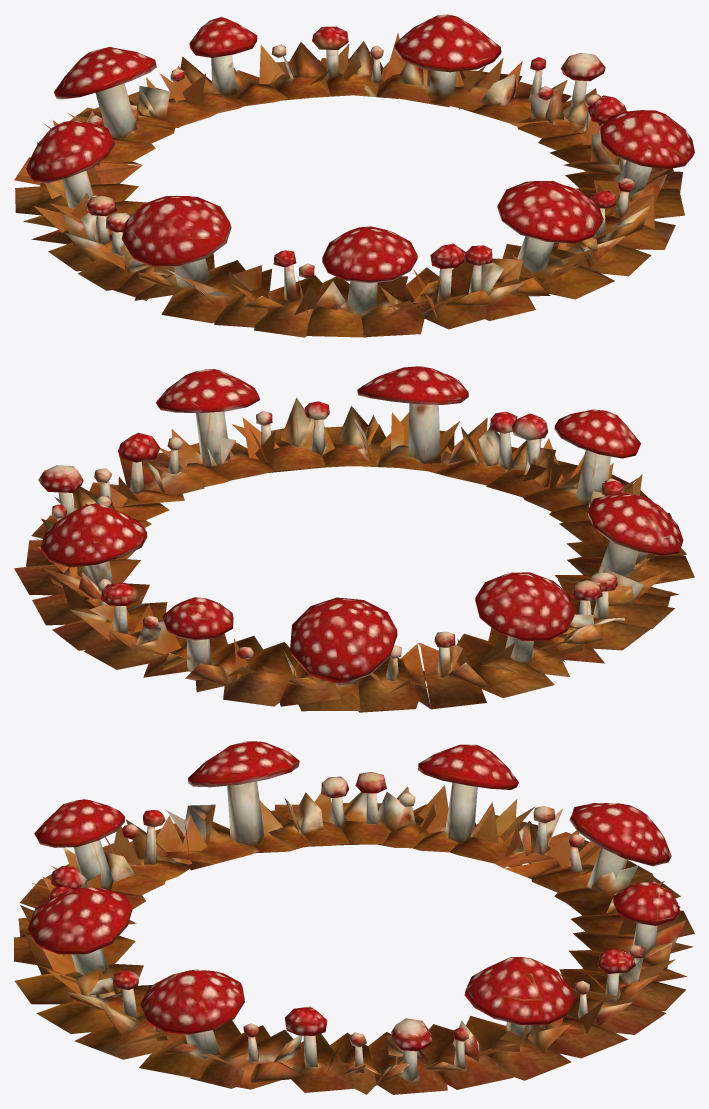
Rendered from toadstool_ring.glb.
3 views of the same model, one above another, from view 1: azimuth 30°, elevation 25°; view 2: azimuth 150°, elevation 25°; view 3: azimuth 270°, elevation 25° (orthographic). The views are drawn at different scales.
Parts seen in each view (by area): view 1: kit-toadstool-ring-1; view 2: kit-toadstool-ring-1; view 3: kit-toadstool-ring-1.
Boxes of the visible parts, box(x1,y1,x2,y2) form: kit-toadstool-ring-1: box(14, 14, 694, 337); kit-toadstool-ring-1: box(14, 366, 694, 712); kit-toadstool-ring-1: box(14, 741, 694, 1094).
Size of the model in its own units: 2.5 by 0.4 by 2.5.
1 material, 1 textured.
